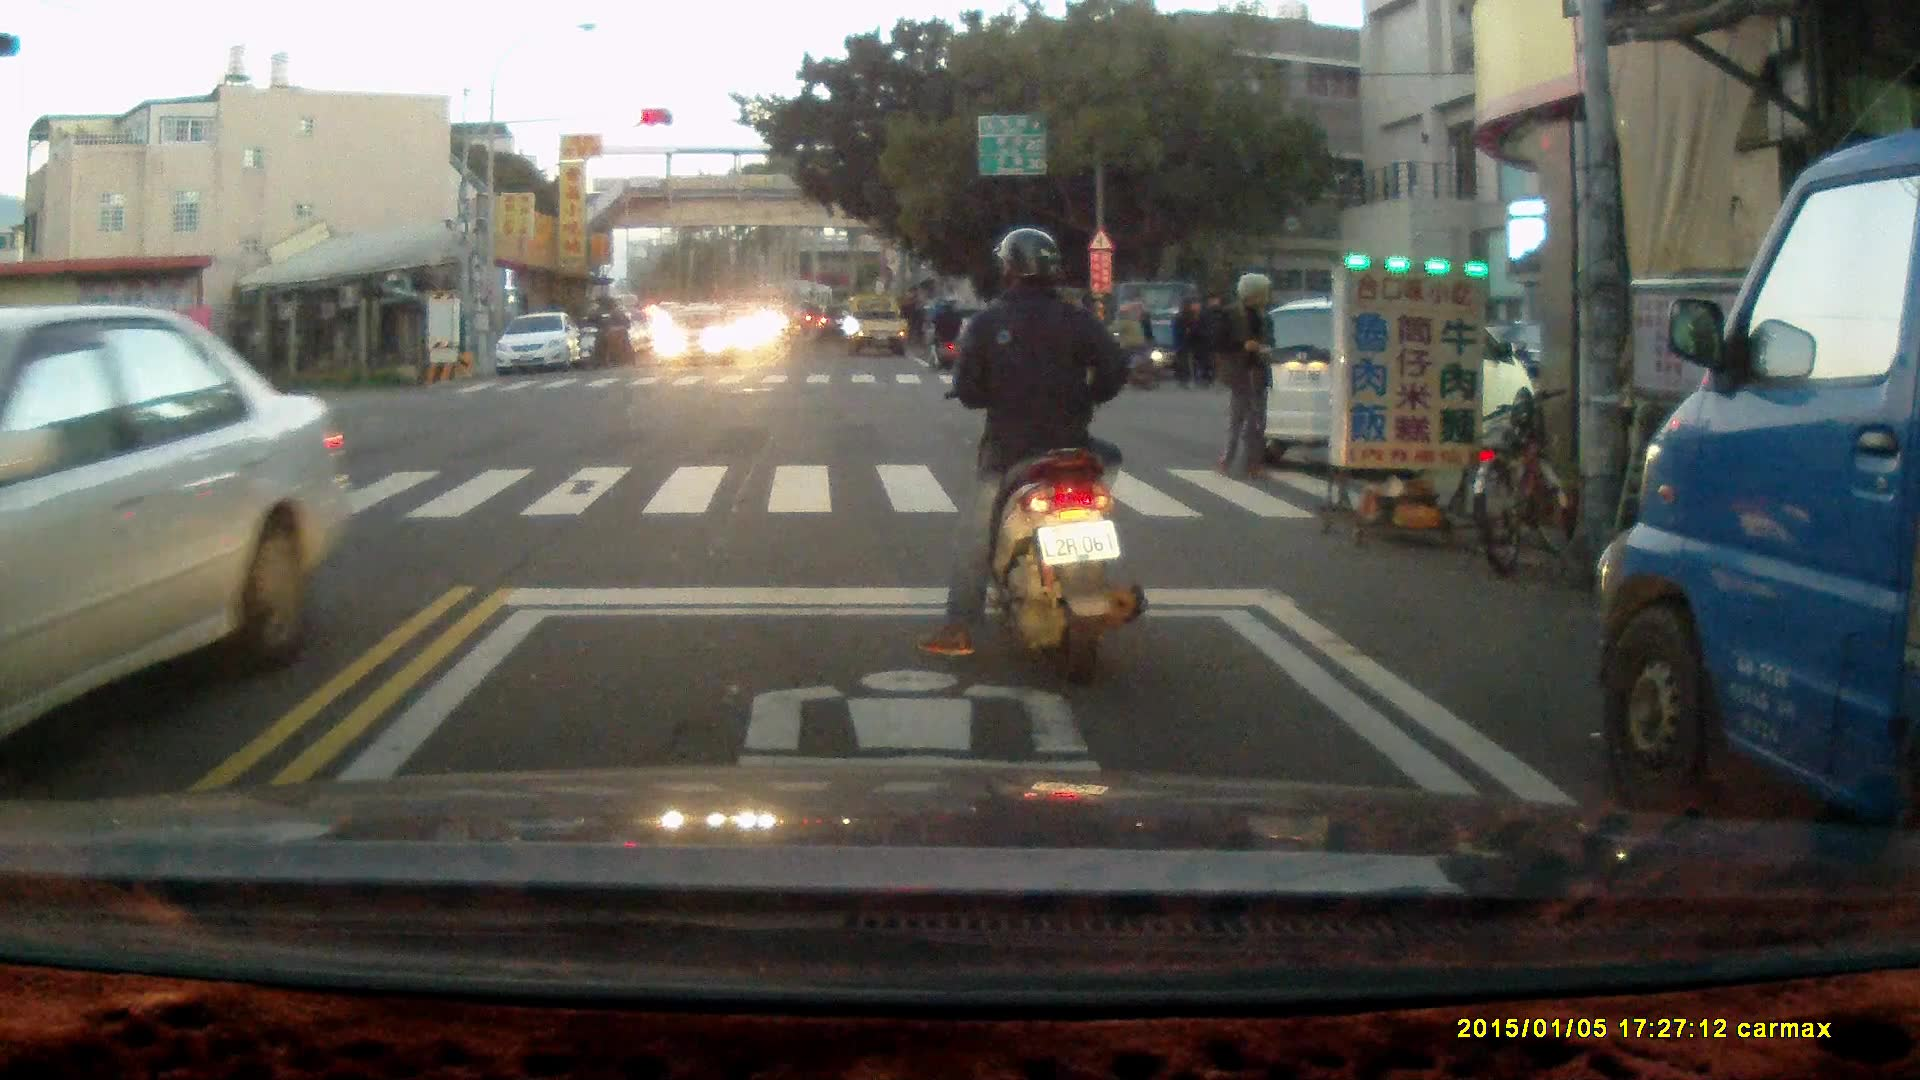pedestrian: (1208, 271, 1281, 479), (1168, 292, 1202, 391)
rider: (918, 224, 1149, 685), (1086, 298, 1163, 390), (922, 291, 967, 376), (577, 301, 612, 372), (595, 300, 632, 367)
vehicle: (1596, 120, 1920, 901), (1, 309, 343, 763), (1236, 303, 1533, 462), (652, 301, 742, 370), (493, 311, 584, 378), (844, 294, 910, 359)
